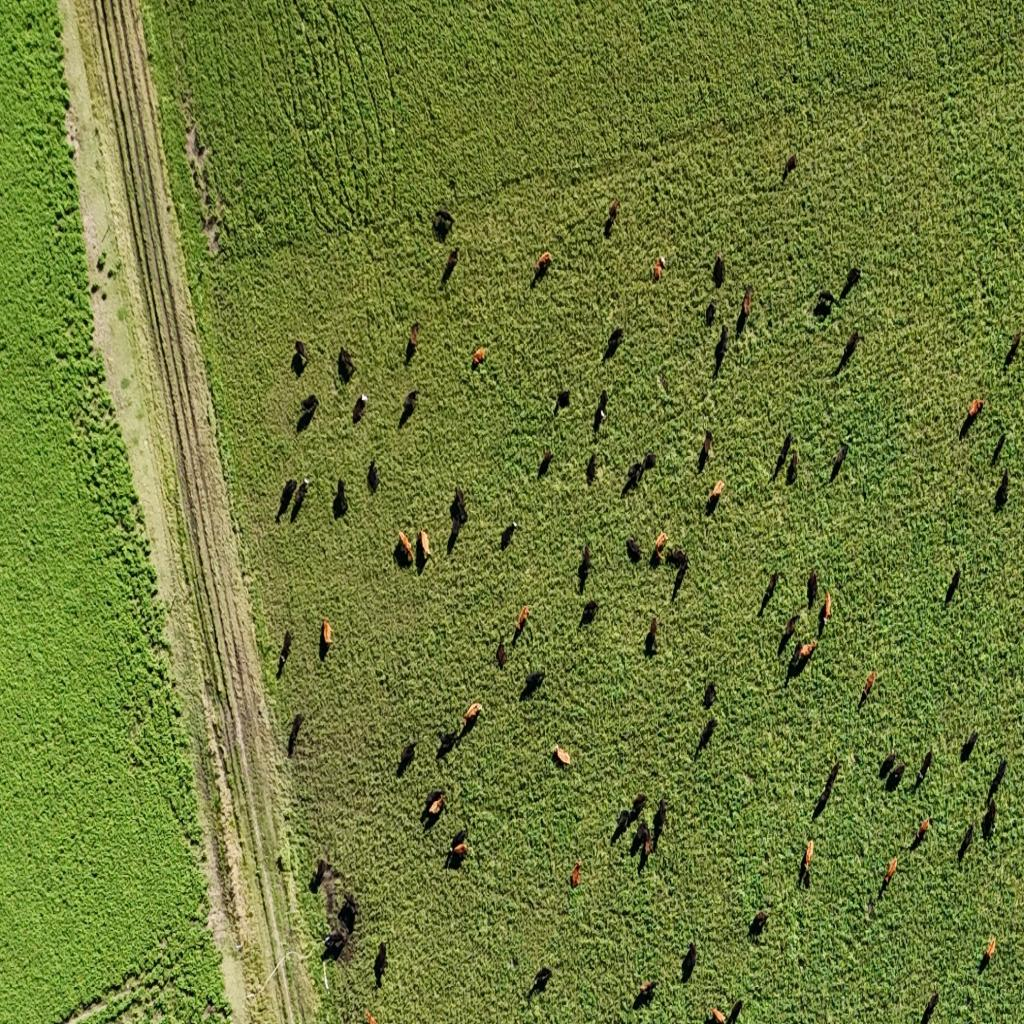cow: (524, 232, 562, 296), (769, 434, 798, 488), (814, 763, 841, 815), (834, 327, 862, 377), (534, 439, 558, 483), (986, 758, 1008, 804), (960, 398, 984, 440), (705, 999, 741, 1024), (436, 725, 460, 759), (829, 442, 849, 482), (778, 614, 798, 654), (760, 572, 779, 614), (672, 554, 690, 598), (323, 929, 346, 963), (277, 480, 297, 518), (339, 895, 359, 933), (299, 395, 320, 430), (914, 750, 933, 788), (399, 390, 419, 426), (287, 712, 303, 756), (879, 856, 897, 894), (696, 717, 715, 753), (799, 838, 813, 886), (714, 329, 728, 377), (994, 468, 1010, 510), (961, 728, 980, 763), (512, 605, 529, 644), (622, 462, 642, 495), (633, 981, 657, 1008), (309, 859, 327, 895), (787, 642, 805, 678), (631, 818, 650, 852), (652, 797, 667, 840), (578, 543, 592, 589), (278, 628, 294, 668), (432, 209, 452, 241), (840, 266, 860, 298), (522, 669, 544, 698), (530, 966, 552, 995), (424, 793, 445, 823), (440, 249, 457, 286), (292, 478, 309, 515), (911, 816, 930, 849), (958, 822, 974, 861), (339, 346, 356, 382), (1004, 332, 1021, 368), (604, 198, 620, 236), (681, 941, 697, 979), (333, 477, 348, 517), (860, 669, 876, 706), (417, 527, 431, 569), (982, 798, 997, 837), (396, 529, 413, 563), (606, 325, 624, 357), (921, 990, 939, 1022), (819, 588, 832, 632), (406, 322, 420, 362), (698, 432, 712, 472), (594, 391, 608, 431), (398, 742, 416, 773), (651, 533, 668, 565), (708, 479, 725, 511), (292, 341, 307, 377), (945, 568, 960, 604), (630, 792, 648, 822), (886, 761, 905, 789), (879, 750, 898, 778), (638, 834, 652, 872), (614, 805, 632, 834), (814, 291, 834, 317), (353, 392, 369, 424), (553, 387, 569, 419), (993, 432, 1008, 466), (750, 908, 768, 936), (982, 936, 997, 968), (626, 536, 643, 564), (463, 702, 482, 727), (580, 600, 598, 626), (651, 817, 663, 856), (500, 521, 516, 550), (807, 568, 818, 610), (321, 616, 335, 648), (455, 484, 469, 516), (666, 546, 686, 568), (425, 785, 445, 807), (713, 253, 725, 289), (648, 616, 659, 654), (368, 459, 380, 493), (375, 941, 387, 975), (554, 745, 572, 767), (586, 452, 598, 484), (782, 154, 796, 181), (654, 254, 668, 281), (801, 640, 818, 662), (642, 448, 656, 474), (704, 679, 716, 709), (450, 828, 470, 845), (496, 636, 506, 670), (471, 348, 486, 370), (570, 861, 582, 888), (658, 371, 669, 397), (743, 287, 752, 317), (453, 844, 471, 859), (451, 514, 461, 539), (706, 302, 716, 326), (867, 900, 875, 920)
